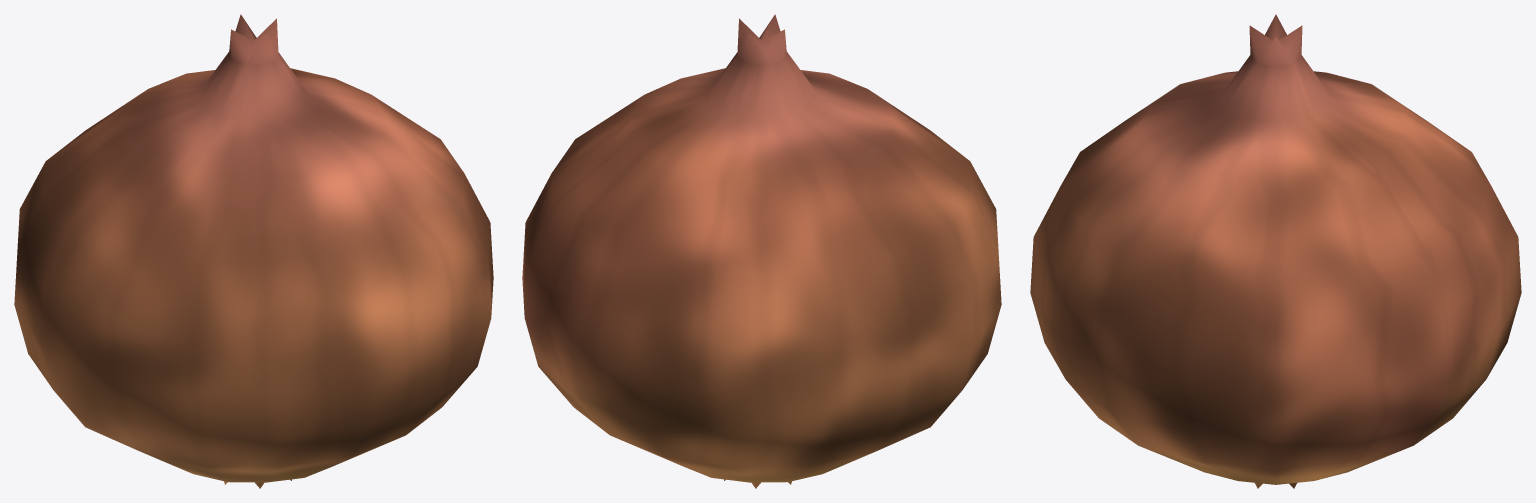
Rendered from CipollaBad.fbx.
3 renders of one model, left to right at view 1: azimuth 30°, elevation 25°; view 2: azimuth 150°, elevation 25°; view 3: azimuth 270°, elevation 25°, orthographic.
Visible parts, largest first — view 1: Sphere; view 2: Sphere; view 3: Sphere.
Boxes of the visible parts, box(x1,y1,x2,y2) form: Sphere: box(14, 14, 493, 488); Sphere: box(522, 14, 1001, 488); Sphere: box(1030, 14, 1521, 488).
Size of the model in its own units: 10 by 10 by 10.
